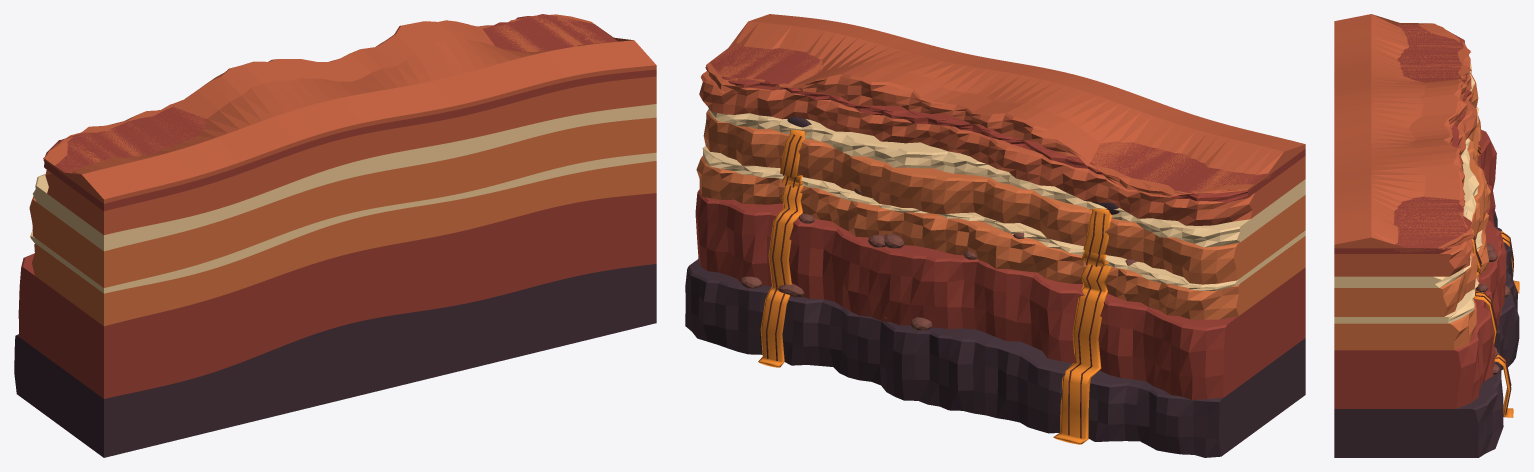
The model's file is SkateCanyonWall.obj.
3 renders of one model, left to right at view 1: azimuth 30°, elevation 25°; view 2: azimuth 150°, elevation 25°; view 3: azimuth 270°, elevation 25°, orthographic. The views are drawn at different scales.
Visible parts, largest first — view 1: RockLow, RockTop, RockMid, Basalt, Stripe; view 2: RockTop, RockLow, Basalt, RockMid, Stripe, Lava, Crust, Boulders; view 3: RockTop, RockLow, Basalt, RockMid, Stripe, Lava, Crust, Boulders.
Part boxes in pixels (box(x1,y1,x2,y2)): RockLow: box(18, 14, 656, 398); RockTop: box(43, 14, 656, 234); RockMid: box(29, 117, 656, 326); Basalt: box(14, 264, 656, 457); Stripe: box(30, 104, 656, 293); RockTop: box(699, 14, 1305, 225); RockLow: box(695, 43, 1305, 399); Basalt: box(685, 117, 1305, 457); RockMid: box(696, 110, 1305, 319); Stripe: box(702, 108, 1305, 290); Lava: box(758, 130, 1111, 444); Crust: box(766, 134, 1105, 438); Boulders: box(740, 188, 1136, 330); RockTop: box(1334, 14, 1477, 276); RockLow: box(1334, 24, 1506, 408); Basalt: box(1334, 211, 1519, 457); RockMid: box(1334, 74, 1490, 350); Stripe: box(1334, 64, 1482, 323); Lava: box(1471, 145, 1519, 417); Crust: box(1473, 147, 1513, 414); Boulders: box(1475, 236, 1510, 374).
Size of the model in its own units: 200 by 99.34 by 70.13.
